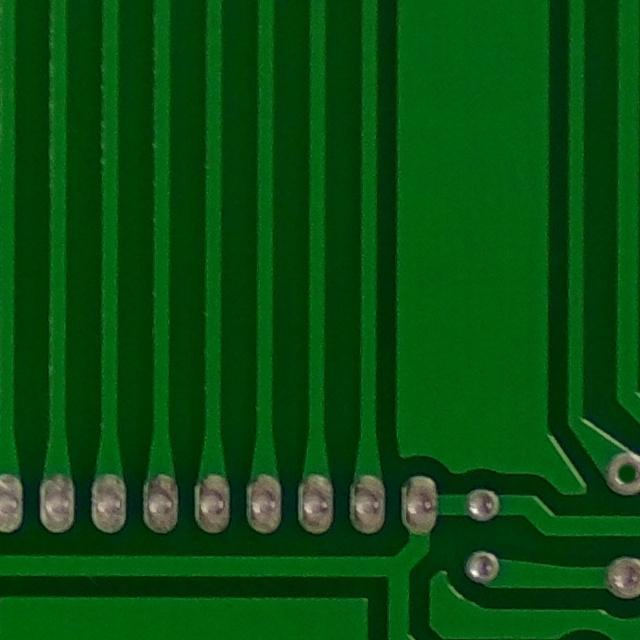missing_hole: (598, 443, 640, 504)
